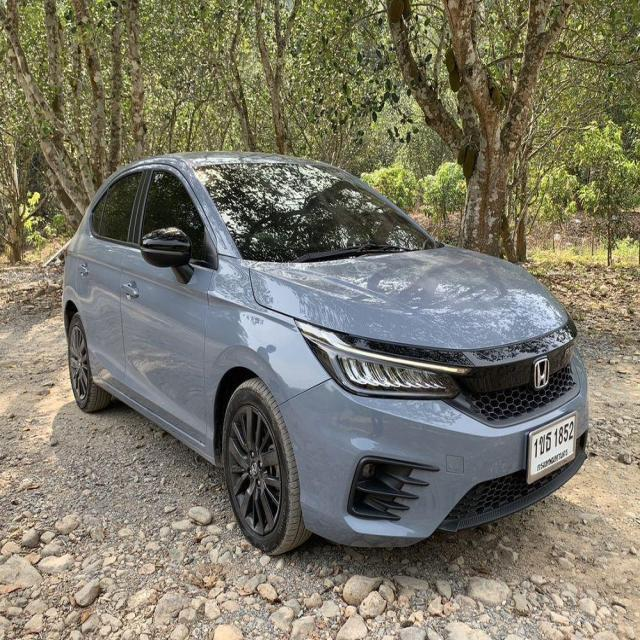Hatchback: (61, 152, 589, 554)
